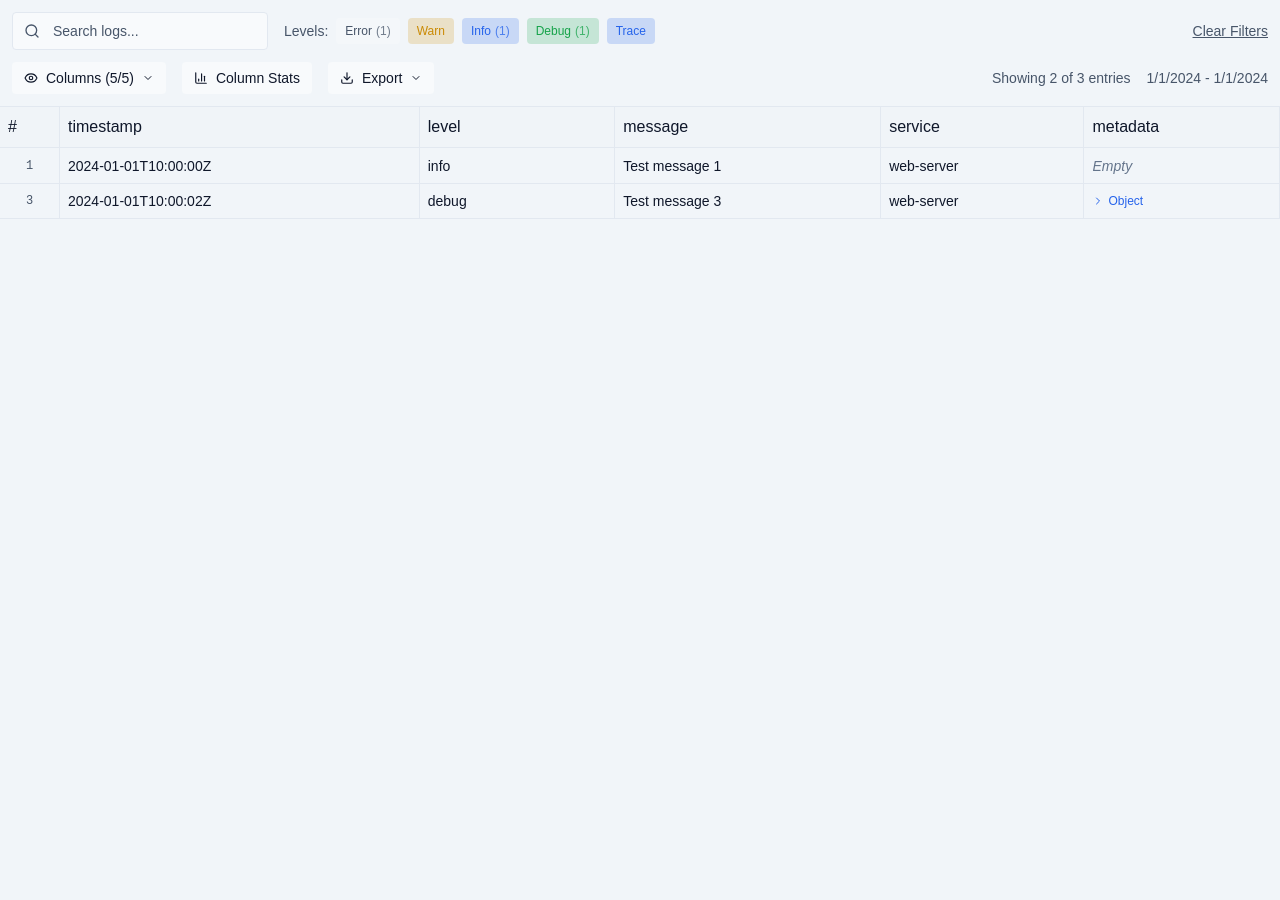
Test: JsonLogViewer › should open column stats modal
Click the button "Column Stats" at [247, 78], box [182,62,312,94]
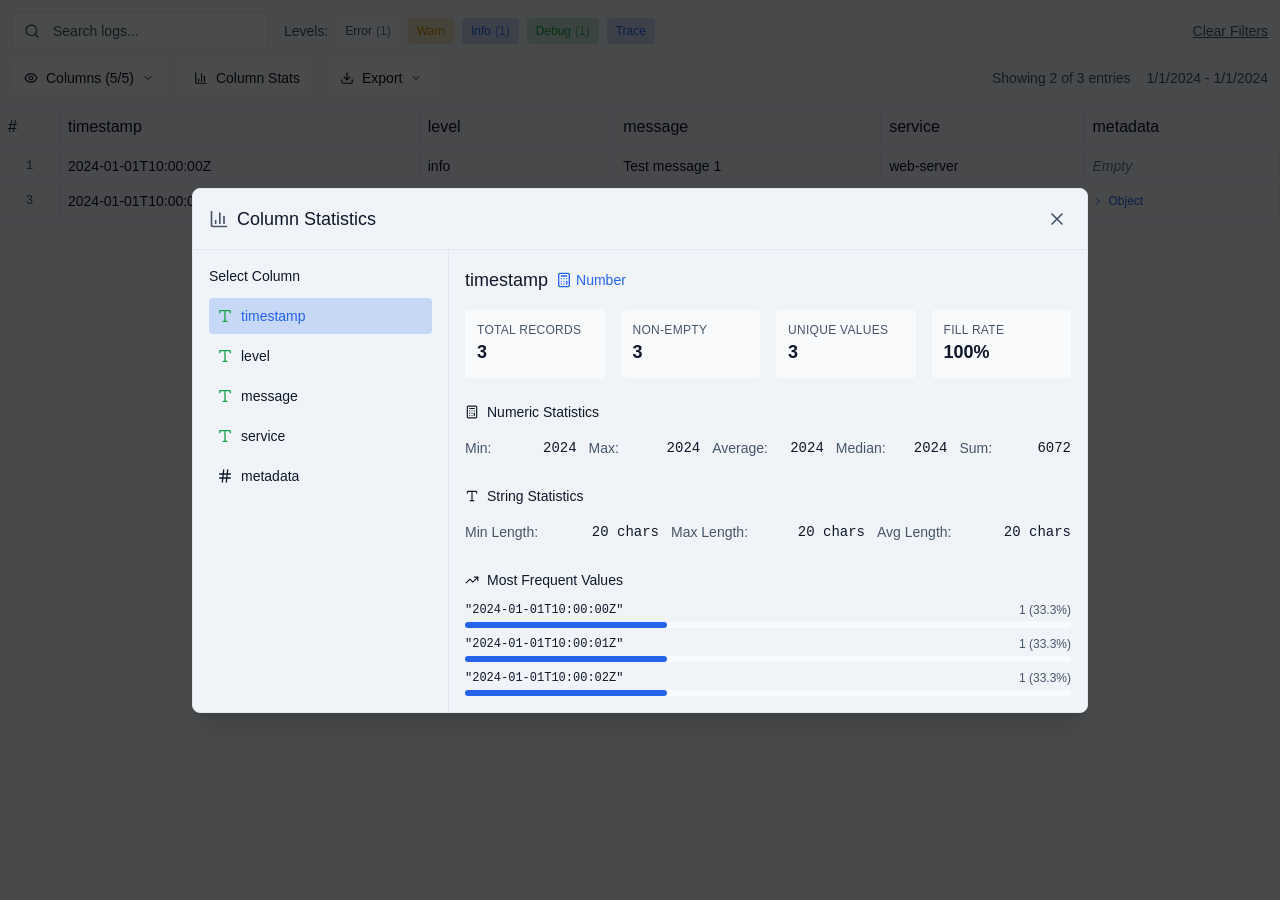
Check: the heading "Column Statistics" is shown, box [237,204,376,232]
